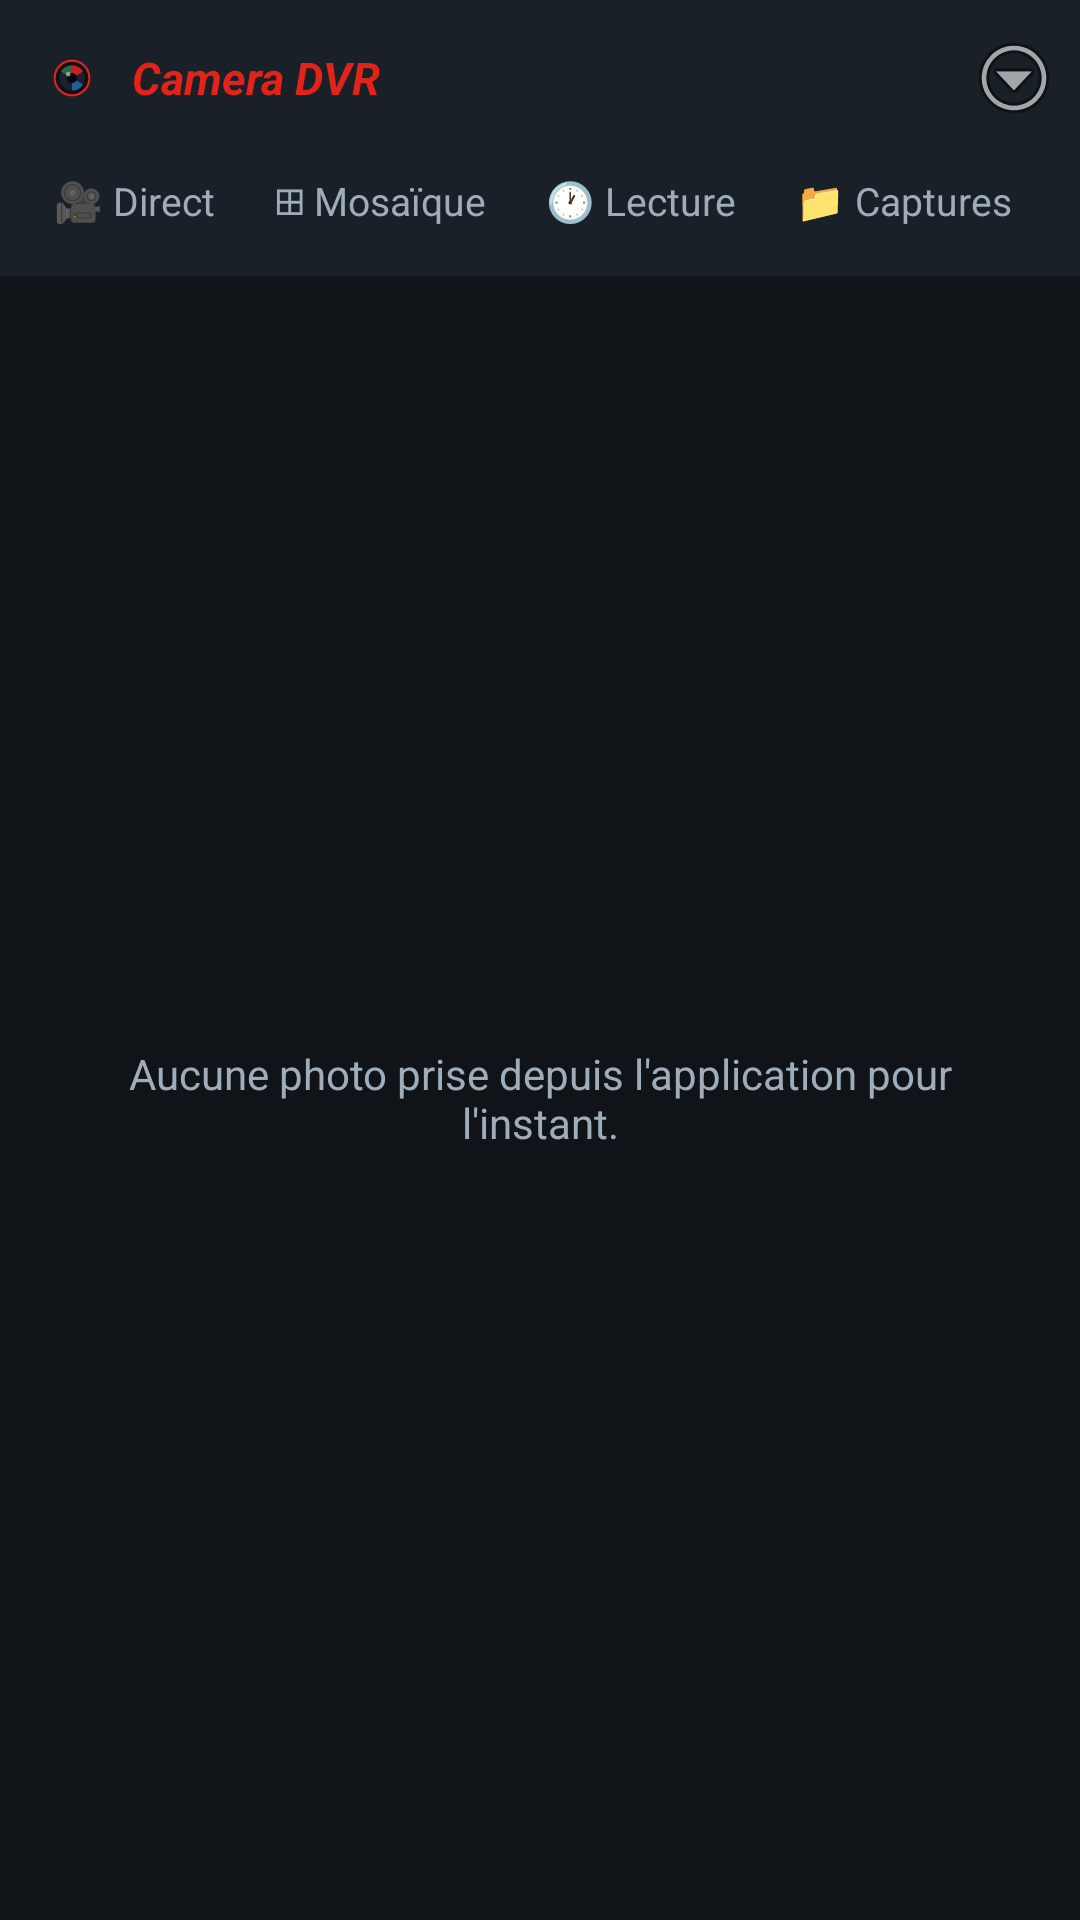

Icons on this 1080 × 1920 Android screen, each with its box as rect(x1, y1, x2, y2):
Menu: rect(981, 46, 1047, 111)
